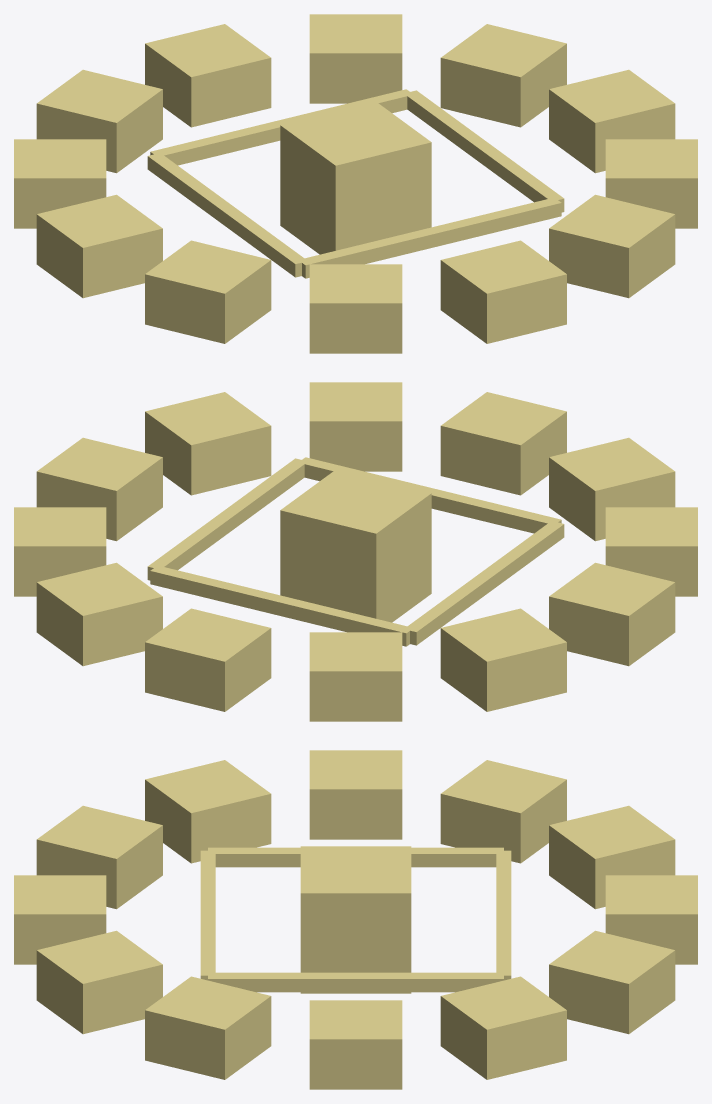
File: trade_station.glb
The picture shows the model from 3 angles, top to bottom: view 1: azimuth 30°, elevation 25°; view 2: azimuth 150°, elevation 25°; view 3: azimuth 270°, elevation 25°; orthographic projection.
Size of the model in its own units: 18.5 by 3 by 18.5.
